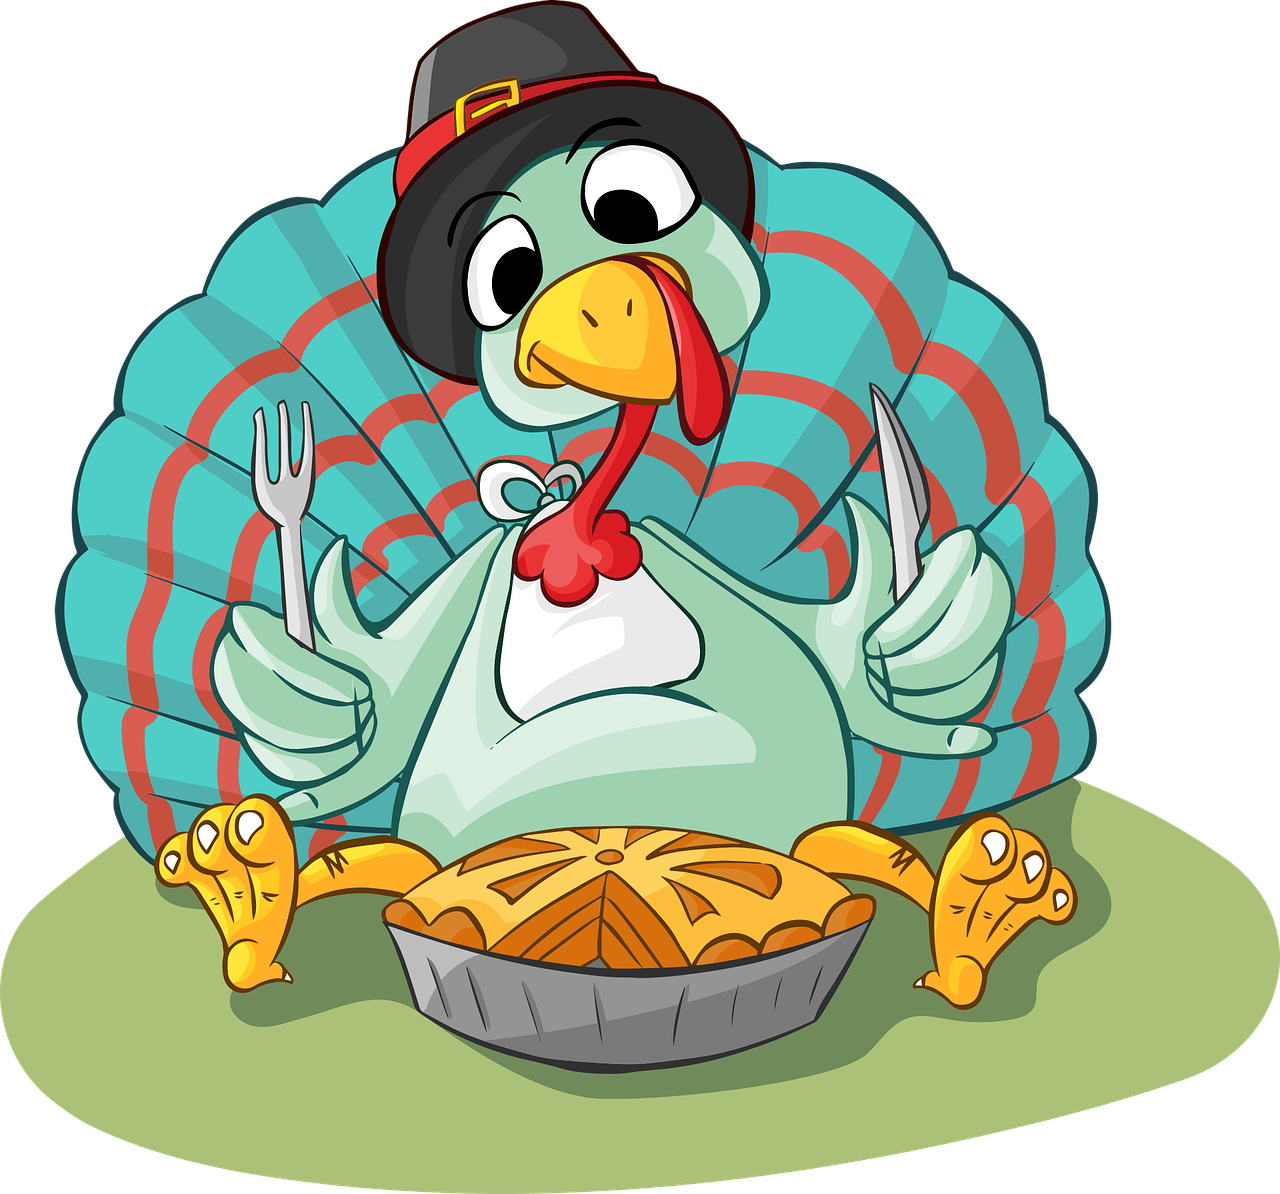knife: (868, 378, 943, 634)
